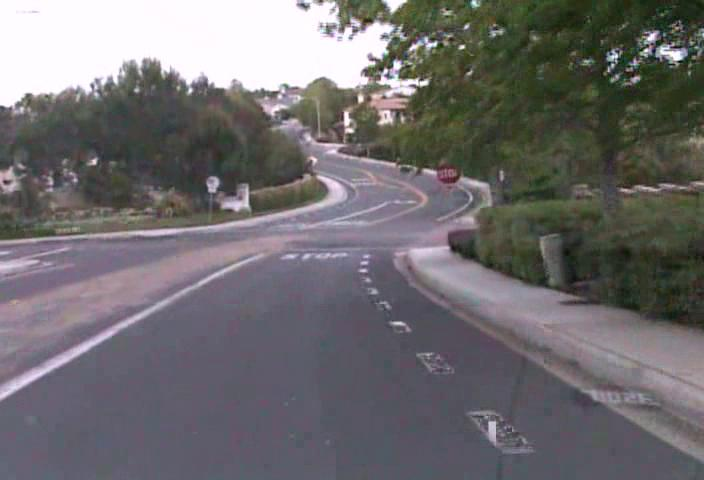stop: (435, 160, 462, 185)
